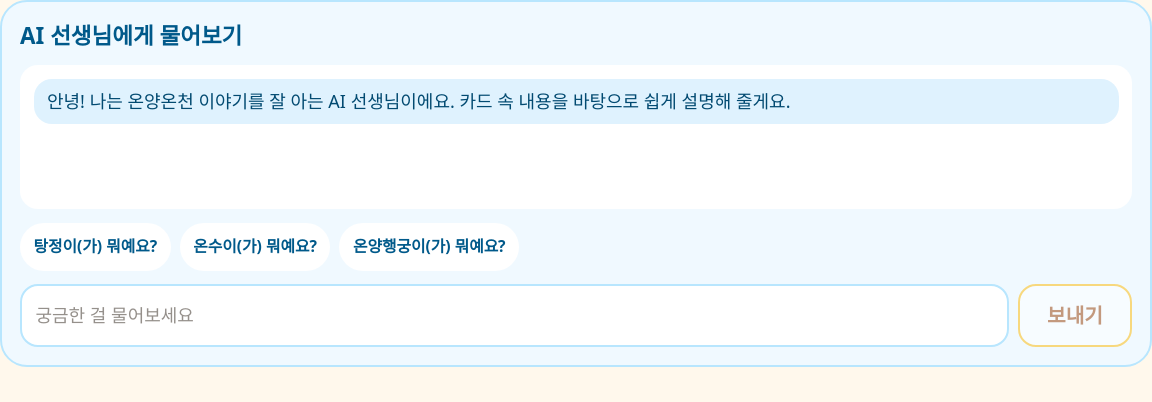
Test case: ChatPanel › AI 가 쉬는 중이면 친절한 오류 문구를 보여 주고 질문은 남긴다
The width and height of the screenshot is (1152, 402).
In the field named "질문 입력": (515, 315) [20,284,1009,346], type "안녕"
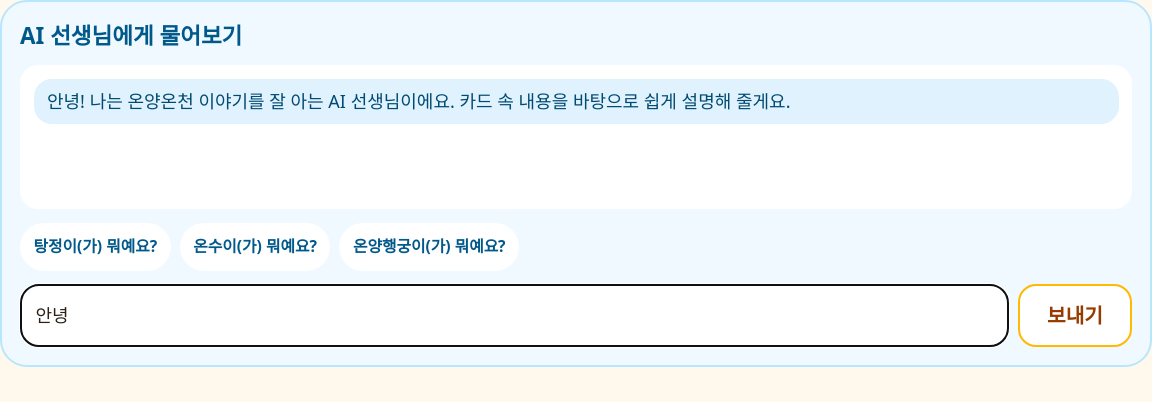
Click the button "보내기": (1075, 315) [1018,284,1132,346]
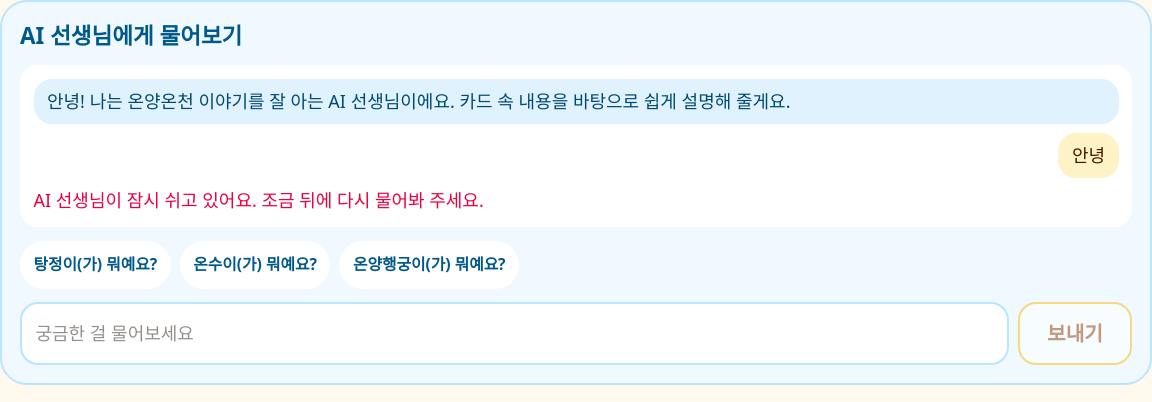
Check: the message shows "AI 선생님이 잠시 쉬고 있어요", box [34,188,484,212]
Check: the text "안녕" is shown, box [1058,132,1118,178]
